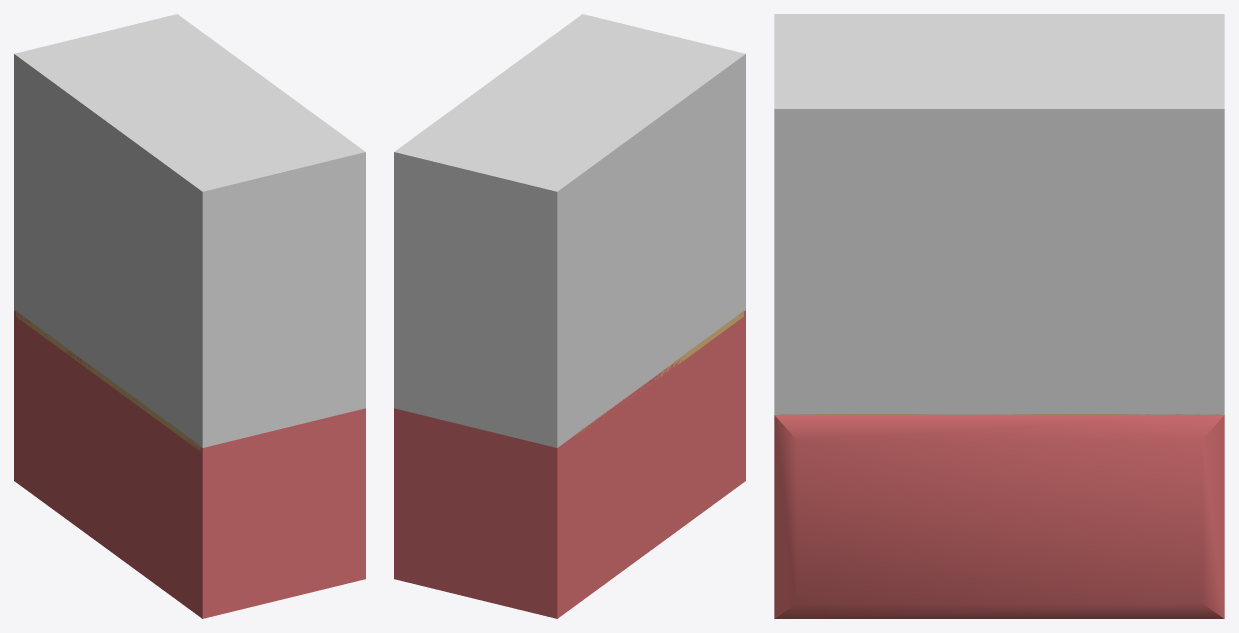
The model's file is aquarium.fbx.
The picture shows the model from 3 angles, left to right: view 1: azimuth 30°, elevation 25°; view 2: azimuth 150°, elevation 25°; view 3: azimuth 270°, elevation 25°; orthographic projection. The views are drawn at different scales.
Parts seen in each view (by area): view 1: aquarium.001; view 2: aquarium.001; view 3: aquarium.001.
Part boxes in pixels (left/top/right/bottom): aquarium.001: left=14, top=14, right=365, bottom=618; aquarium.001: left=394, top=14, right=745, bottom=618; aquarium.001: left=774, top=14, right=1224, bottom=618.
Size of the model in its own units: 210 by 500 by 400.
